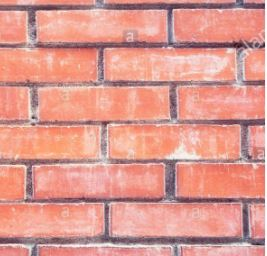brick: (109, 201, 245, 241), (105, 122, 243, 160), (36, 85, 172, 122), (36, 8, 169, 45), (103, 47, 238, 82), (31, 164, 166, 198), (1, 201, 106, 241), (1, 125, 103, 162), (172, 7, 267, 46), (1, 47, 100, 83), (174, 163, 265, 200), (175, 86, 265, 120), (1, 86, 33, 120), (1, 9, 29, 45), (1, 163, 27, 200)
